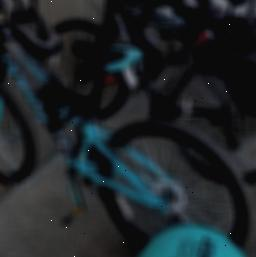algae: (132, 225, 256, 257)
